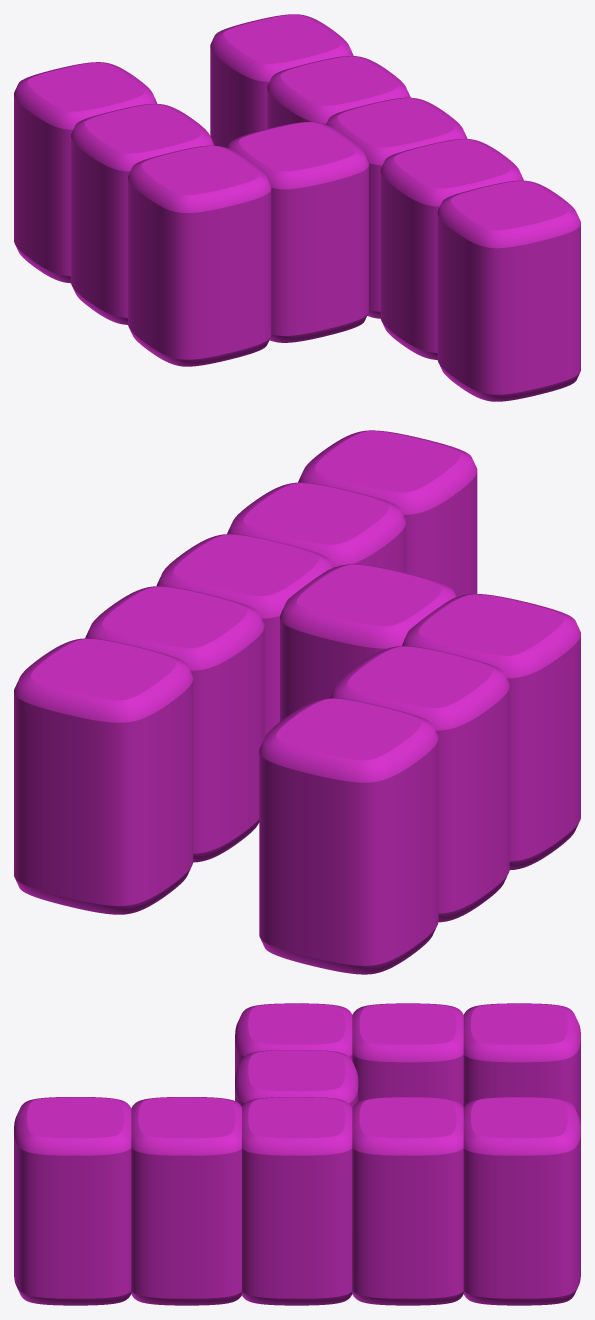
The model's file is Letter_h_Small.fbx.
3 views of the same model, one above another, from view 1: azimuth 30°, elevation 25°; view 2: azimuth 150°, elevation 25°; view 3: azimuth 270°, elevation 25° (orthographic). The views are drawn at different scales.
Parts seen in each view (by area): view 1: Letter_h; view 2: Letter_h; view 3: Letter_h.
Boxes of the visible parts, box(x1,y1,x2,y2) form: Letter_h: box(14, 14, 580, 401); Letter_h: box(14, 430, 580, 974); Letter_h: box(14, 1003, 580, 1305).
Size of the model in its own units: 0.2619 by 0.14 by 0.4311.
